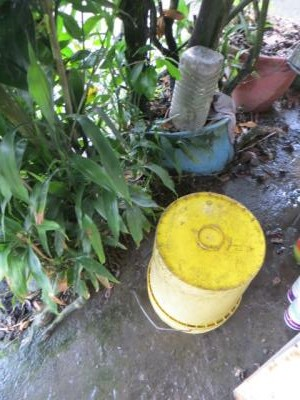bottle: (167, 45, 226, 132)
bucket: (145, 190, 269, 338)
